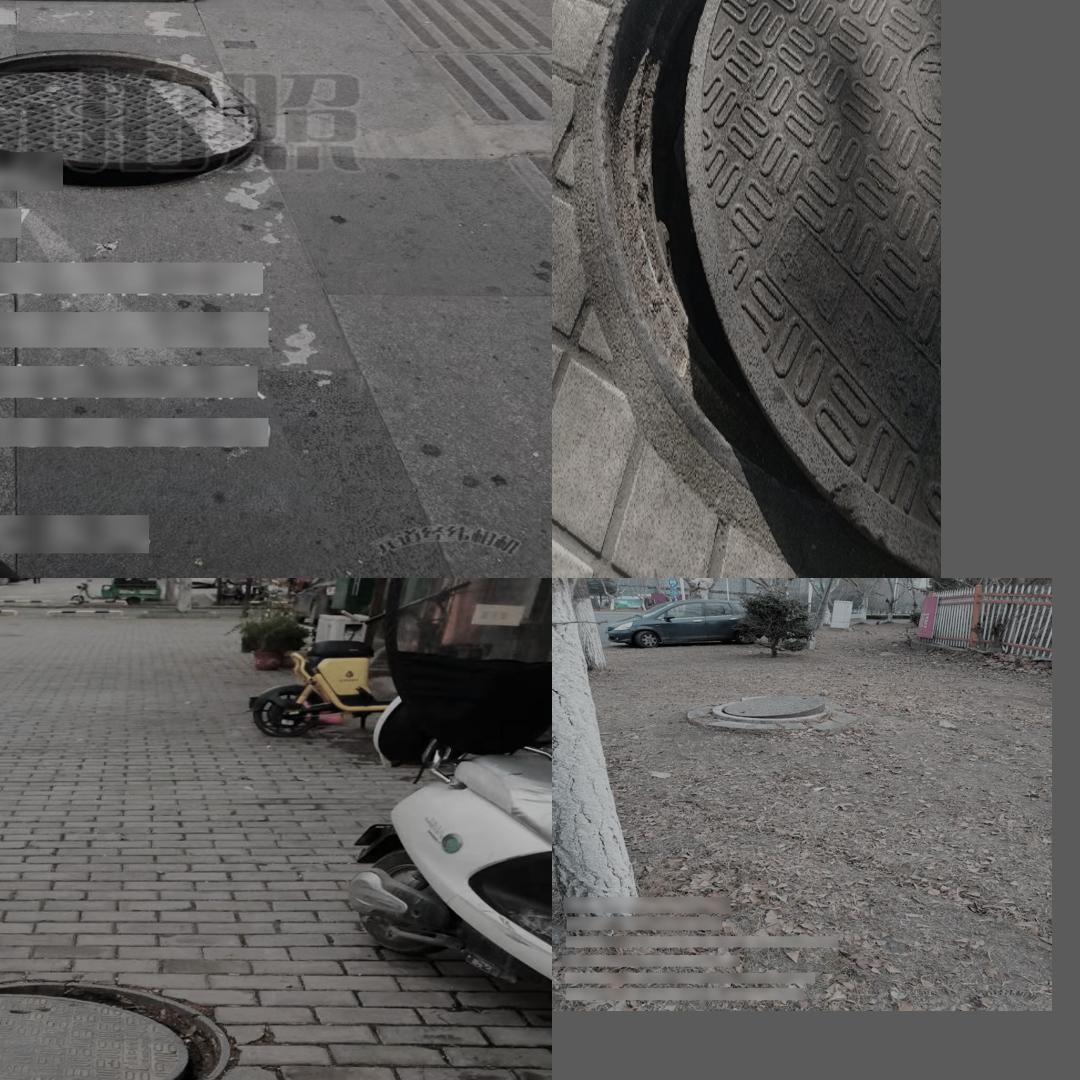uncovered: (589, 0, 939, 578), (0, 48, 261, 189), (0, 964, 264, 1080), (707, 694, 829, 720)
